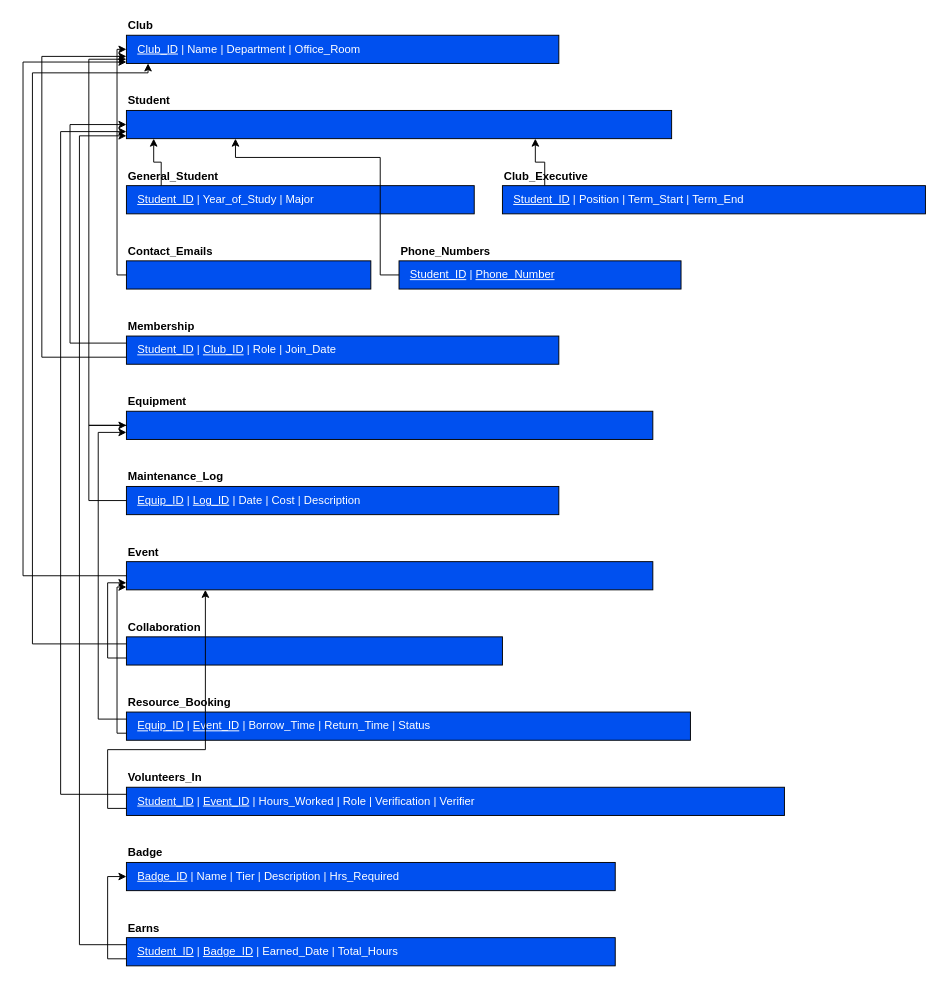
Image size: 942x982. Some labels were removed from this diagram. Each missing label, with the centre of its shape:
"Club_ID | Email" goes at pixel 248 274.
"Club_ID | Event_ID | Contribution_Type" goes at pixel 313 650.
"Equip_ID | Name | Type | Status | Purchase_Date | Club_ID" goes at pixel 389 424.
"Event_ID | Title | Date | Venue | Description | Club_ID" goes at pixel 389 575.
"Student_ID | Name | Email | Street | City | Zip" goes at pixel 398 124.
